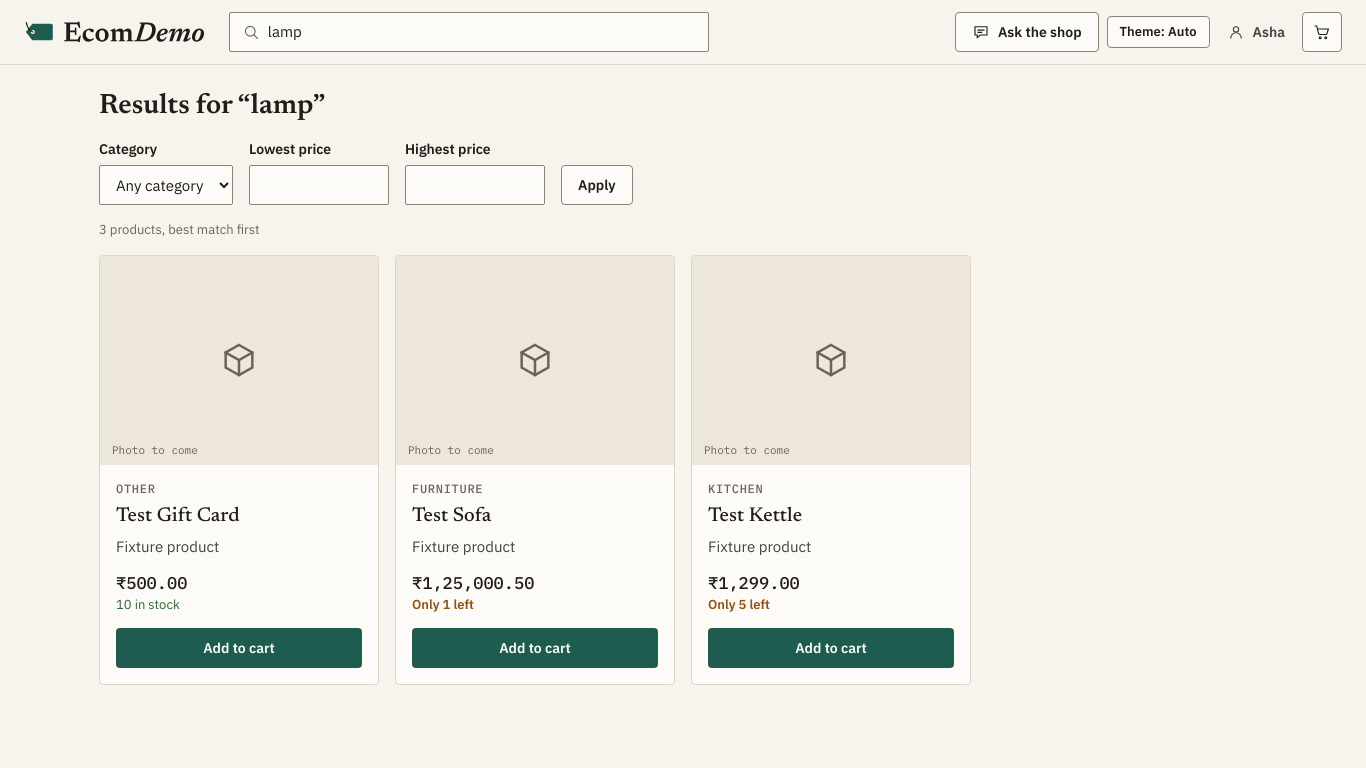
Test: the search page › shows why an add was refused, and lets the message go
The image size is (1366, 768).
Expected: the heading "Test Gift Card" is shown, [116,506,240,526]
Click the button "Add to cart" below "10 in stock" at (239, 648), box [116,628,362,668]
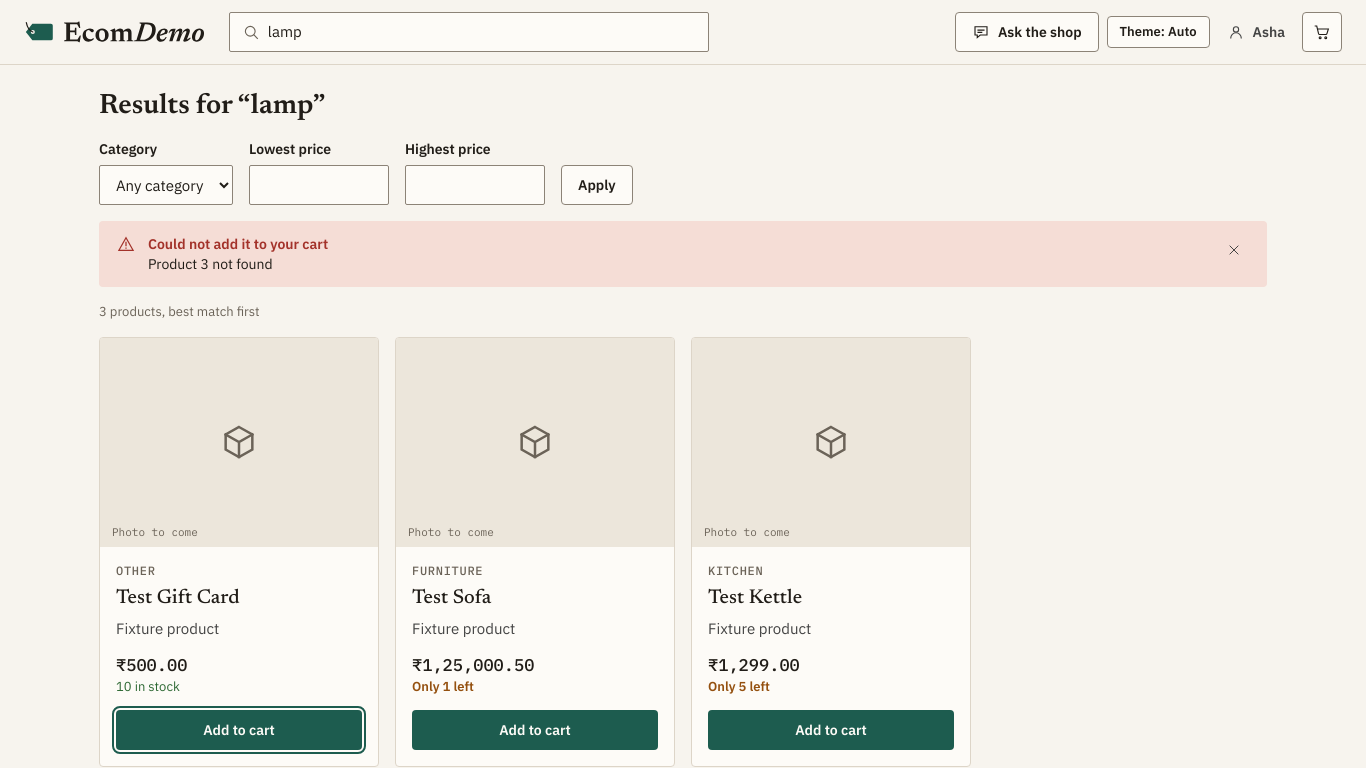
Result: the text "Product 3 not found" is shown at [148,255,273,273]
Click the button named "Dismiss" at (1234, 250), box [1218,234,1250,266]
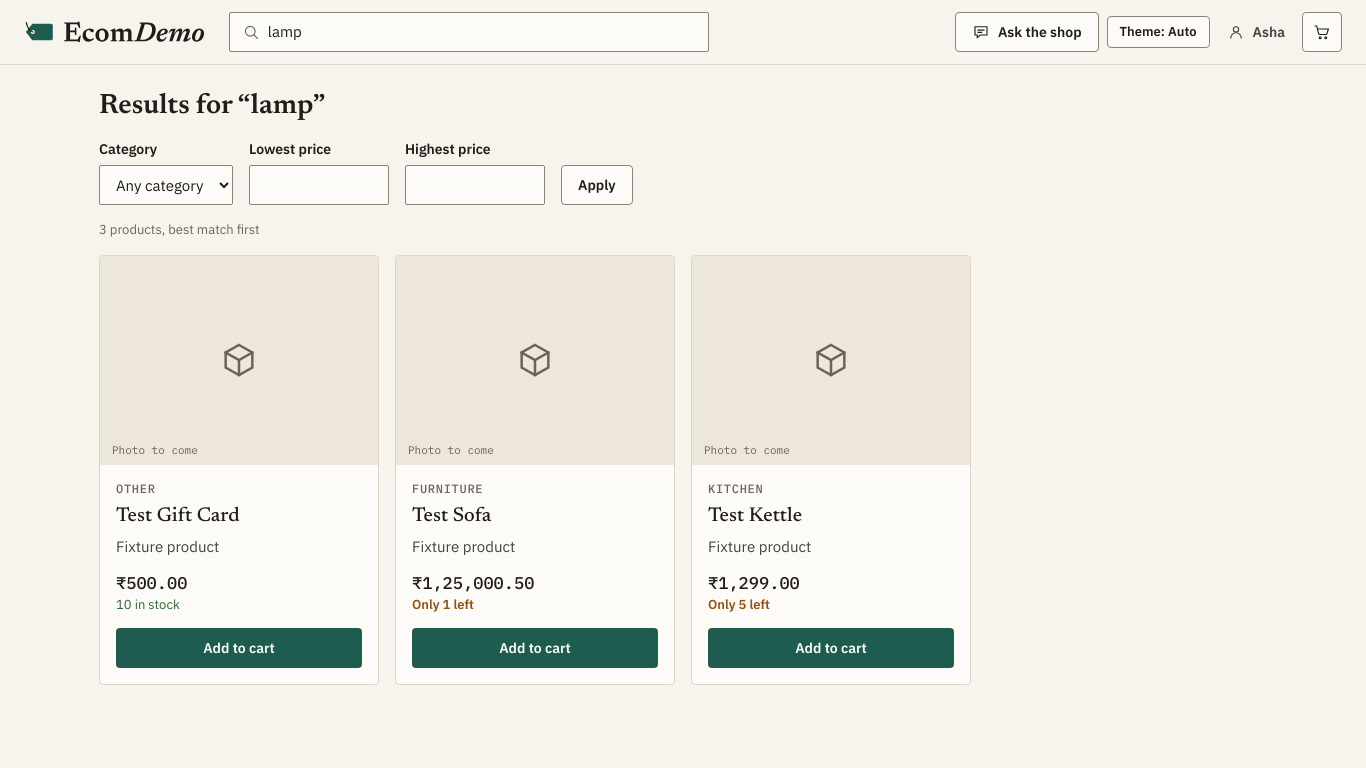
Result: the text "Product 3 not found" is gone
